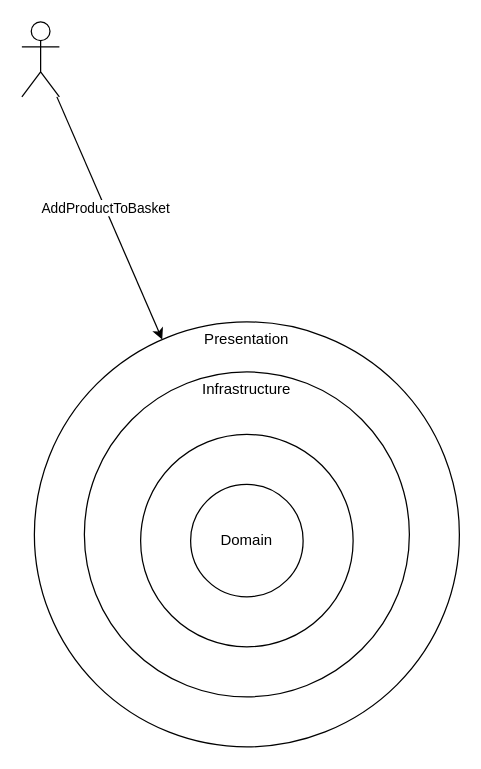
Image size: 481x769. Some labels were removed from this diagram. The box of each missing label's shape, as (x1, y1, x2, y2) in pixels:
Actor: (21, 21, 59, 97)
Application: (139, 433, 353, 647)
